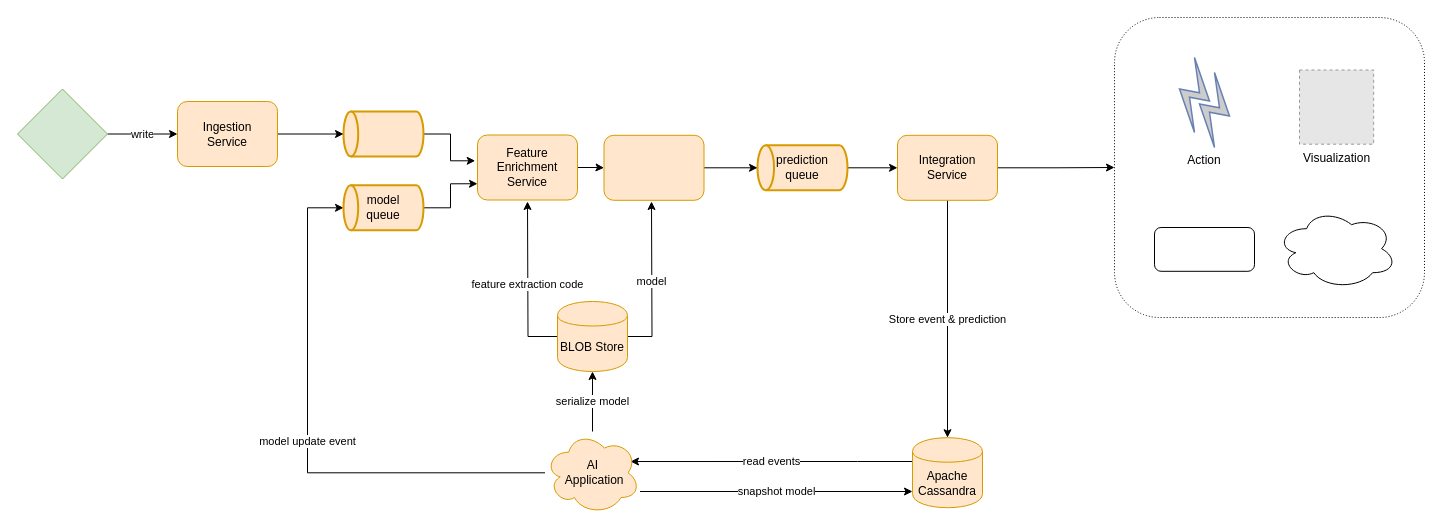
Some shapes in this 1442 by 532 pixel diagram are drawn without their labels. Grey dashed boxes stand in for pictures. The box of each missing label's shape, as (x1, y1, x2, y2) in pixels:
Inference Service: (603, 134, 704, 200)
Other Integrations: (1276, 208, 1397, 289)
Real-time Events: (16, 88, 108, 179)
sensor queue: (342, 110, 424, 157)
Webhook(s): (1154, 226, 1254, 271)
